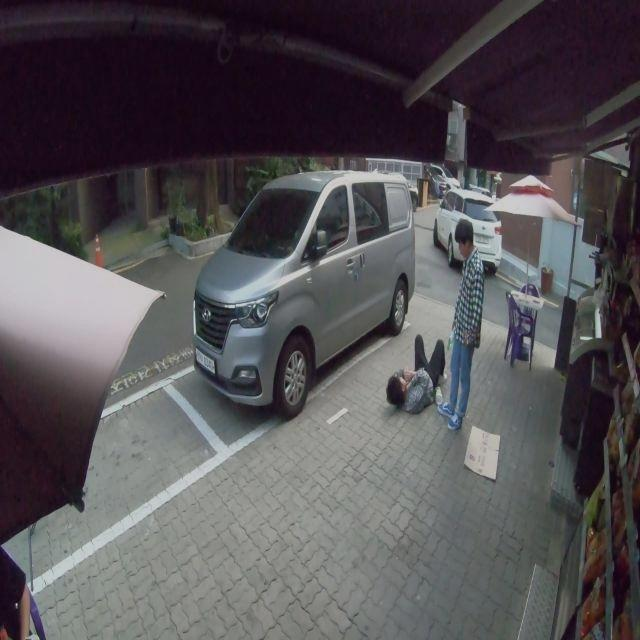fight: (378, 215, 488, 438)
